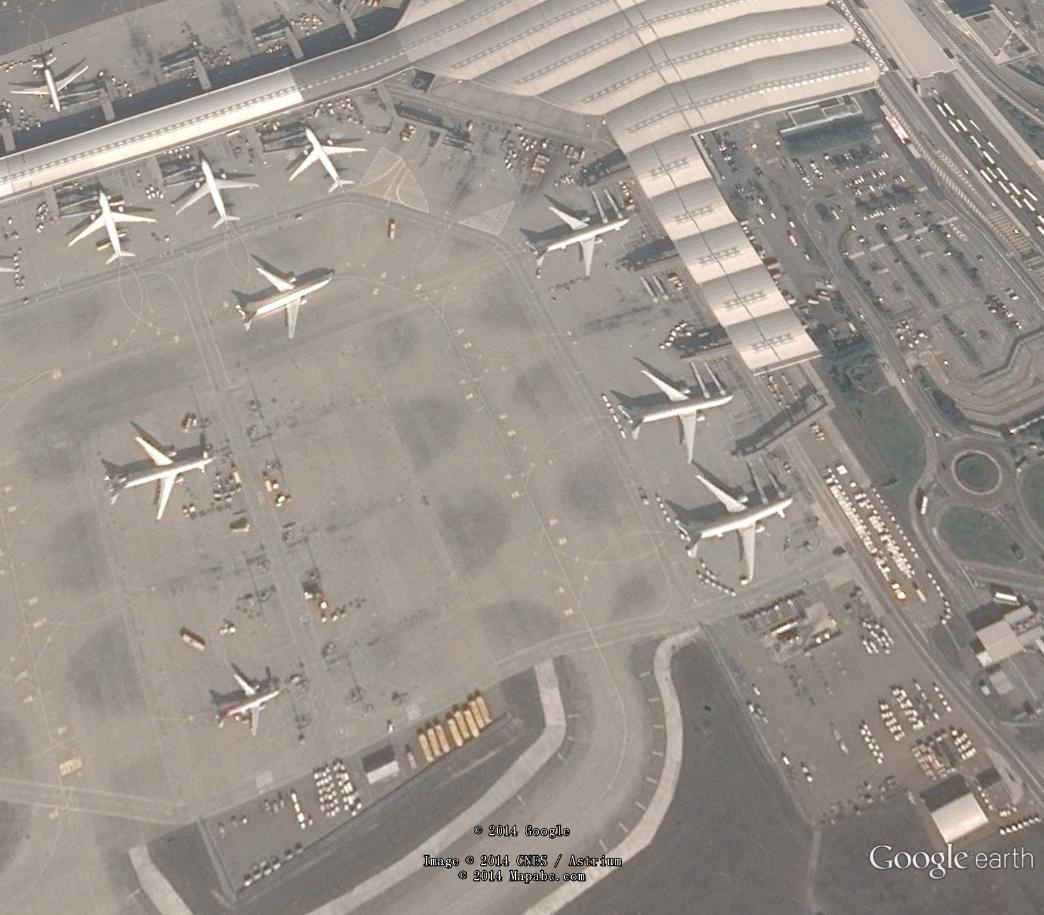aircraft: (670, 468, 804, 585), (616, 364, 739, 471), (522, 189, 639, 282), (100, 433, 222, 520), (234, 261, 337, 346), (60, 189, 165, 267), (175, 153, 261, 232), (289, 120, 367, 192), (213, 670, 291, 742), (10, 51, 93, 118)
